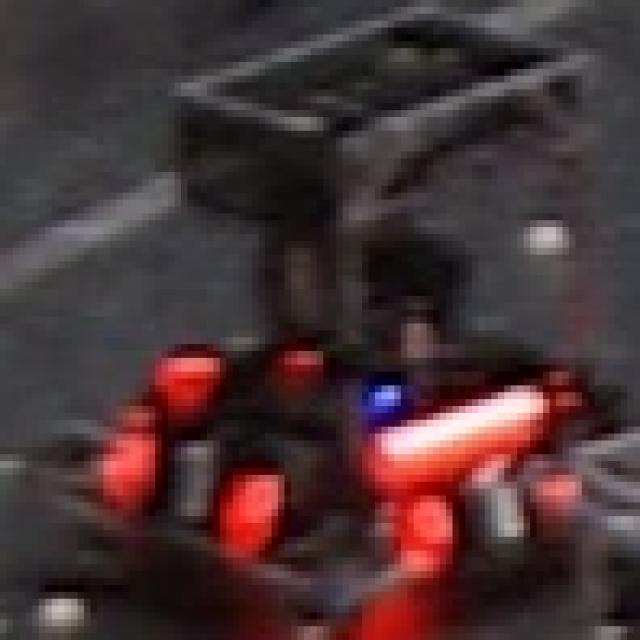R1: (103, 420, 284, 550), (414, 454, 569, 551)
